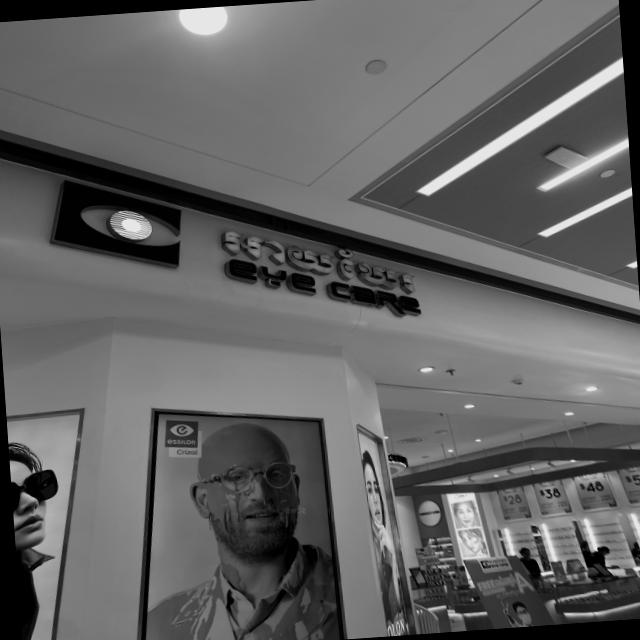Yolov11kh: (214, 217, 426, 297)
